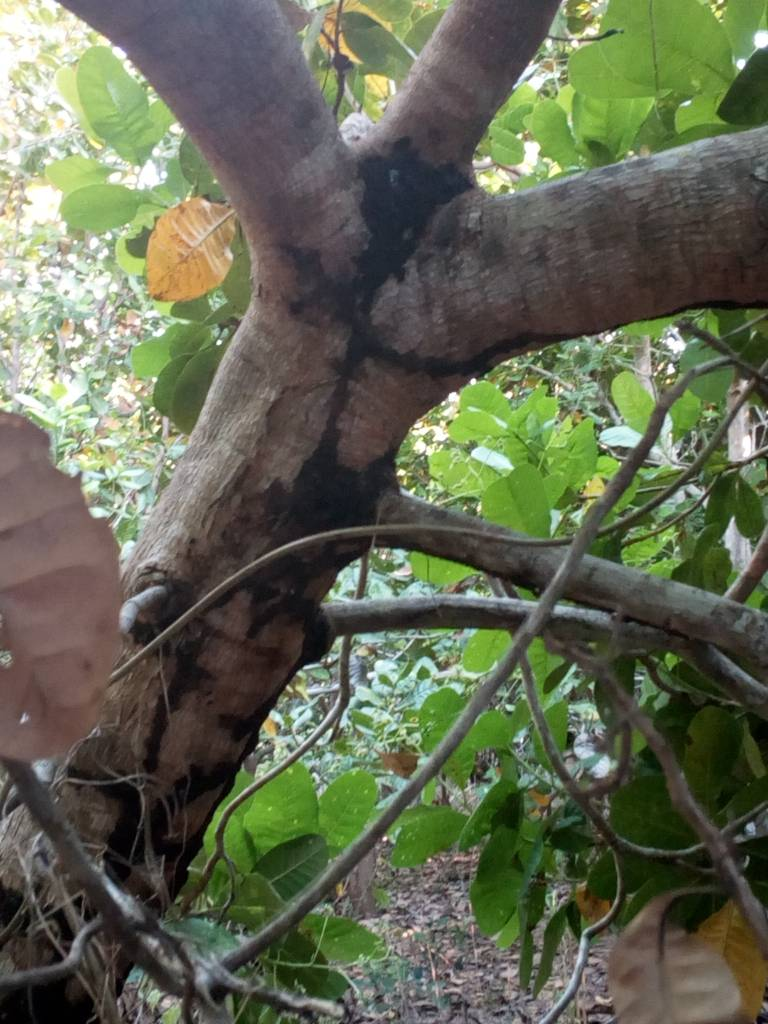Termites: (146, 653, 224, 852), (363, 139, 435, 321), (299, 427, 380, 521), (361, 338, 507, 374), (269, 589, 329, 663)
